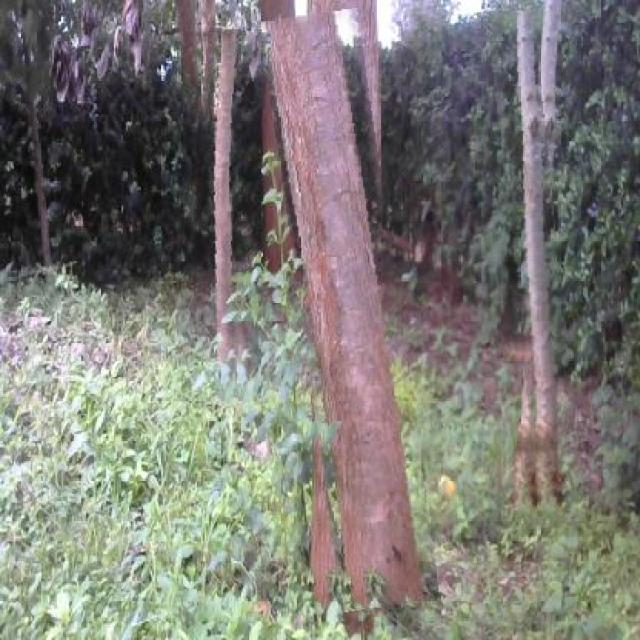tree trunk: (282, 11, 420, 611), (501, 10, 574, 528), (180, 29, 262, 406)
